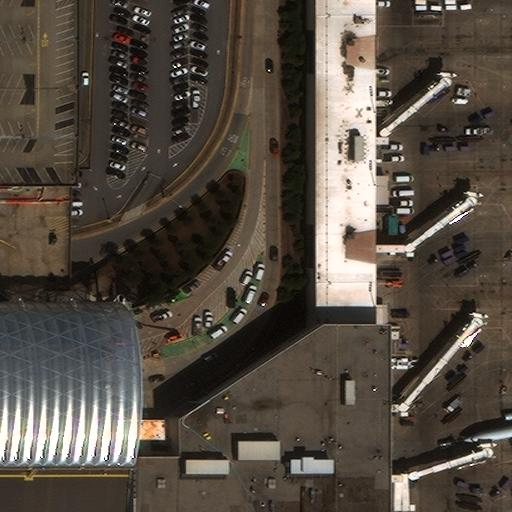Medium Civil Transport: (463, 393, 512, 458)
